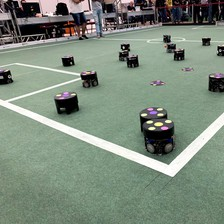ball: (162, 43, 166, 47)
goal: (214, 20, 224, 26)
robot: (140, 117, 175, 154), (52, 89, 79, 113), (77, 66, 98, 87), (207, 70, 224, 91), (1, 67, 12, 85), (59, 52, 73, 66), (125, 52, 139, 66), (171, 45, 185, 59), (215, 42, 224, 56), (119, 40, 130, 50), (117, 47, 127, 58), (165, 42, 175, 53), (200, 36, 211, 46), (161, 33, 168, 42)
